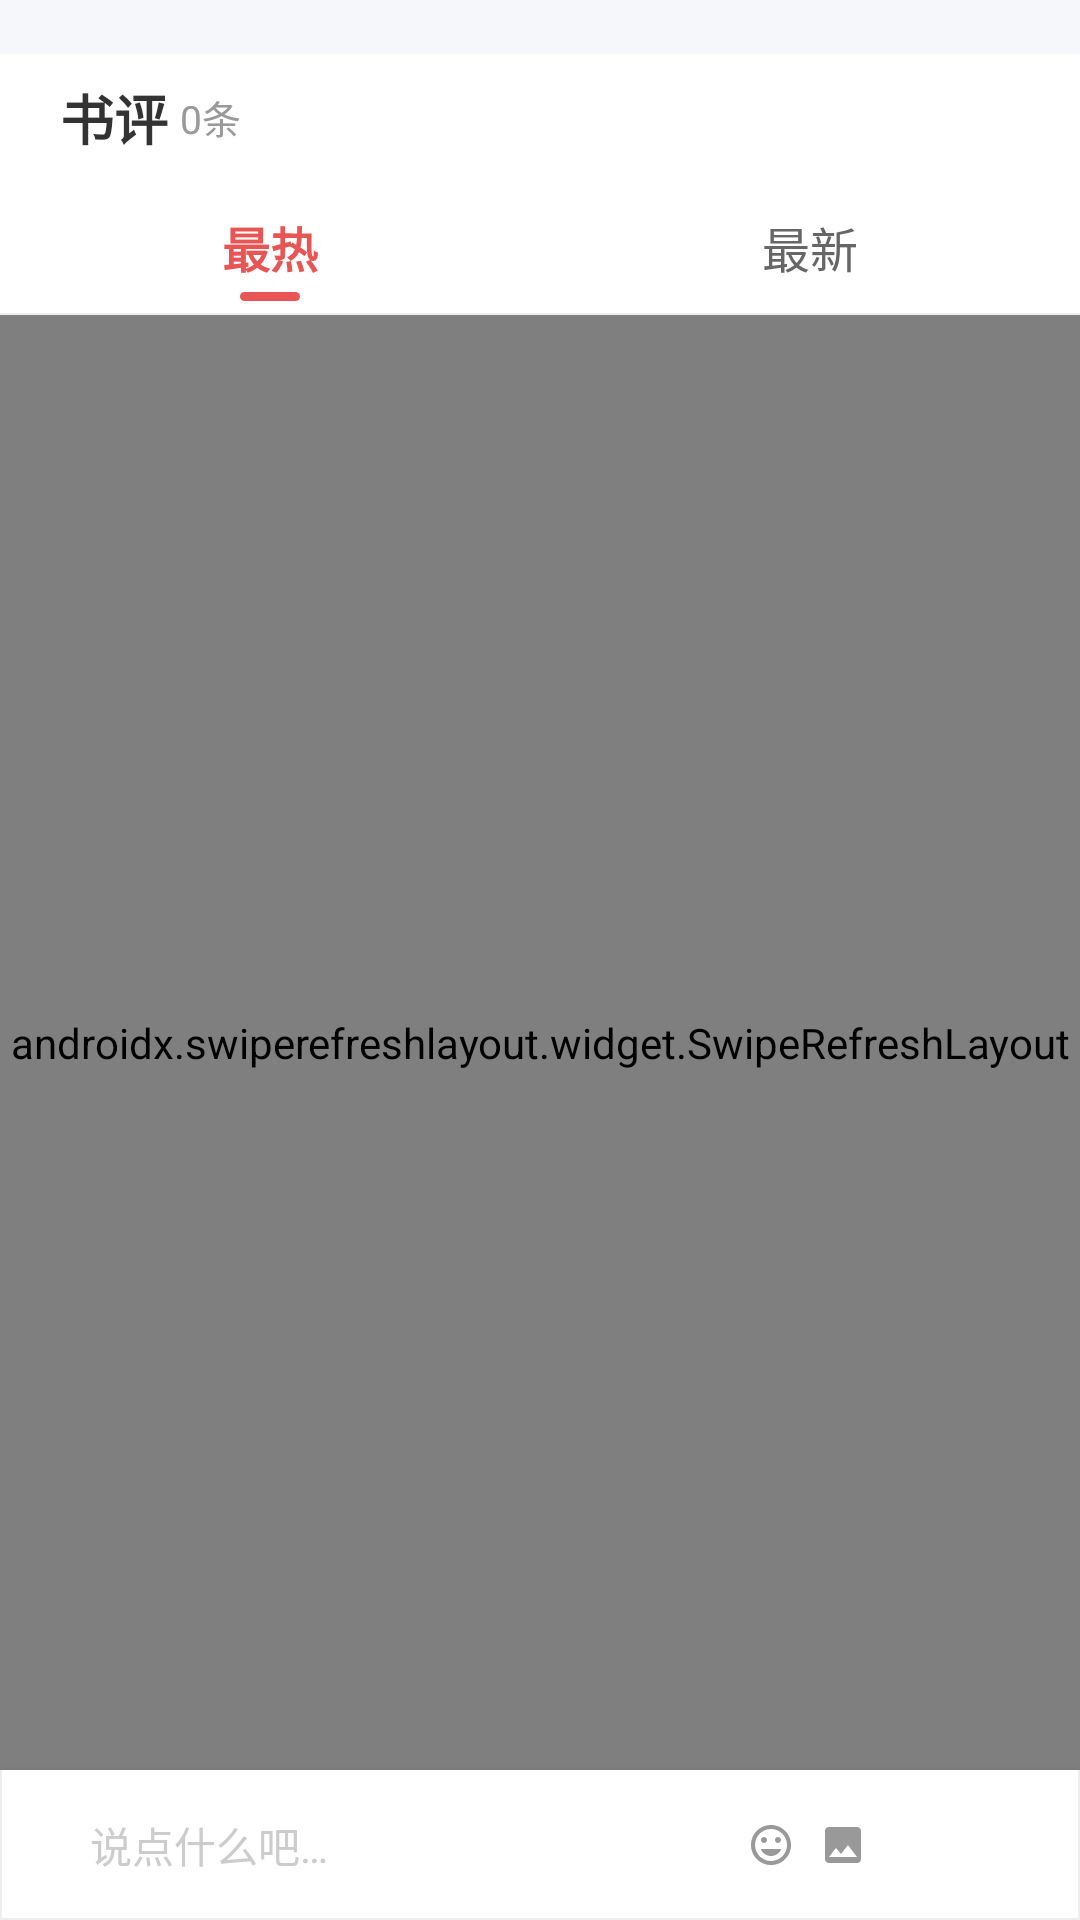

Where to tap for icons on this 1080px x 1920px app screen, as (x,y):
emoji: (771,1845)
